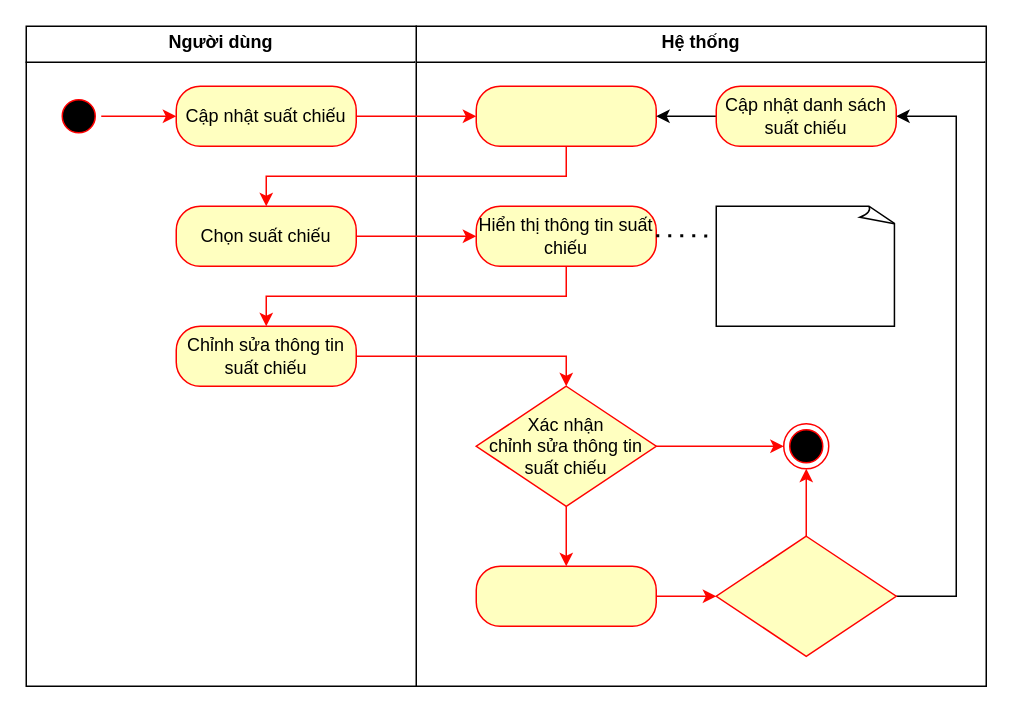
Image size: 1013x713. Some labels were removed from this diagram. Each missing label, with the centre of its shape:
"Chỉnh sửa thông tin suất chiếu khác" goes at point (805, 595).
"Cập nhật thông tin nhân viên vào CSDL" goes at point (565, 595).
"Hiển thị danh sách suất chiếu" goes at point (565, 115).
"STT phòng chiếu , trạng thái phòng chiếu, ngày giờ thời gian bắt đầu / kết thúc" goes at point (805, 265).
